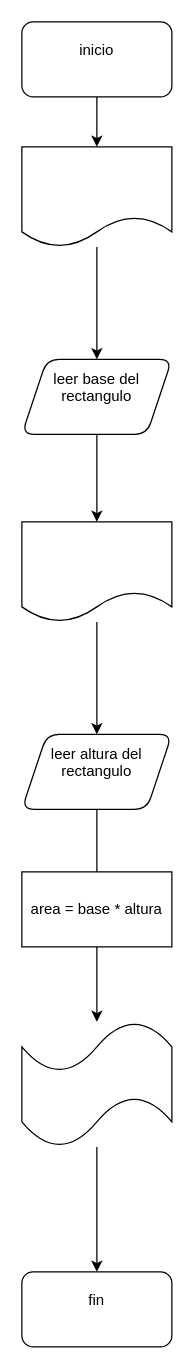
Image size: 194x1369. Some labels were removed from this diagram. The shapes that lost their labels are listed below. From the top down, each one's centre as x and y in pixels, then its label:
point 96,196: ingrese la base del rectangulo
point 96,571: ingrese altura del rectangulo
point 96,1084: "el area del rectangulo es: ", area
